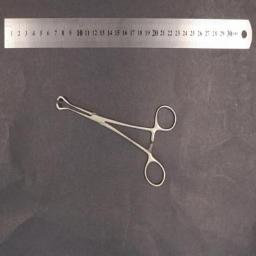Babcock Tissue Forceps: (56, 94, 176, 188)
